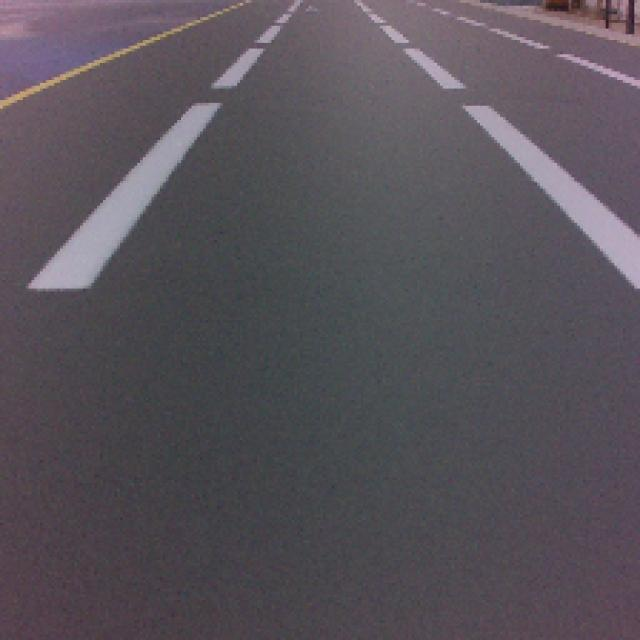Road: (89, 138, 640, 298)
